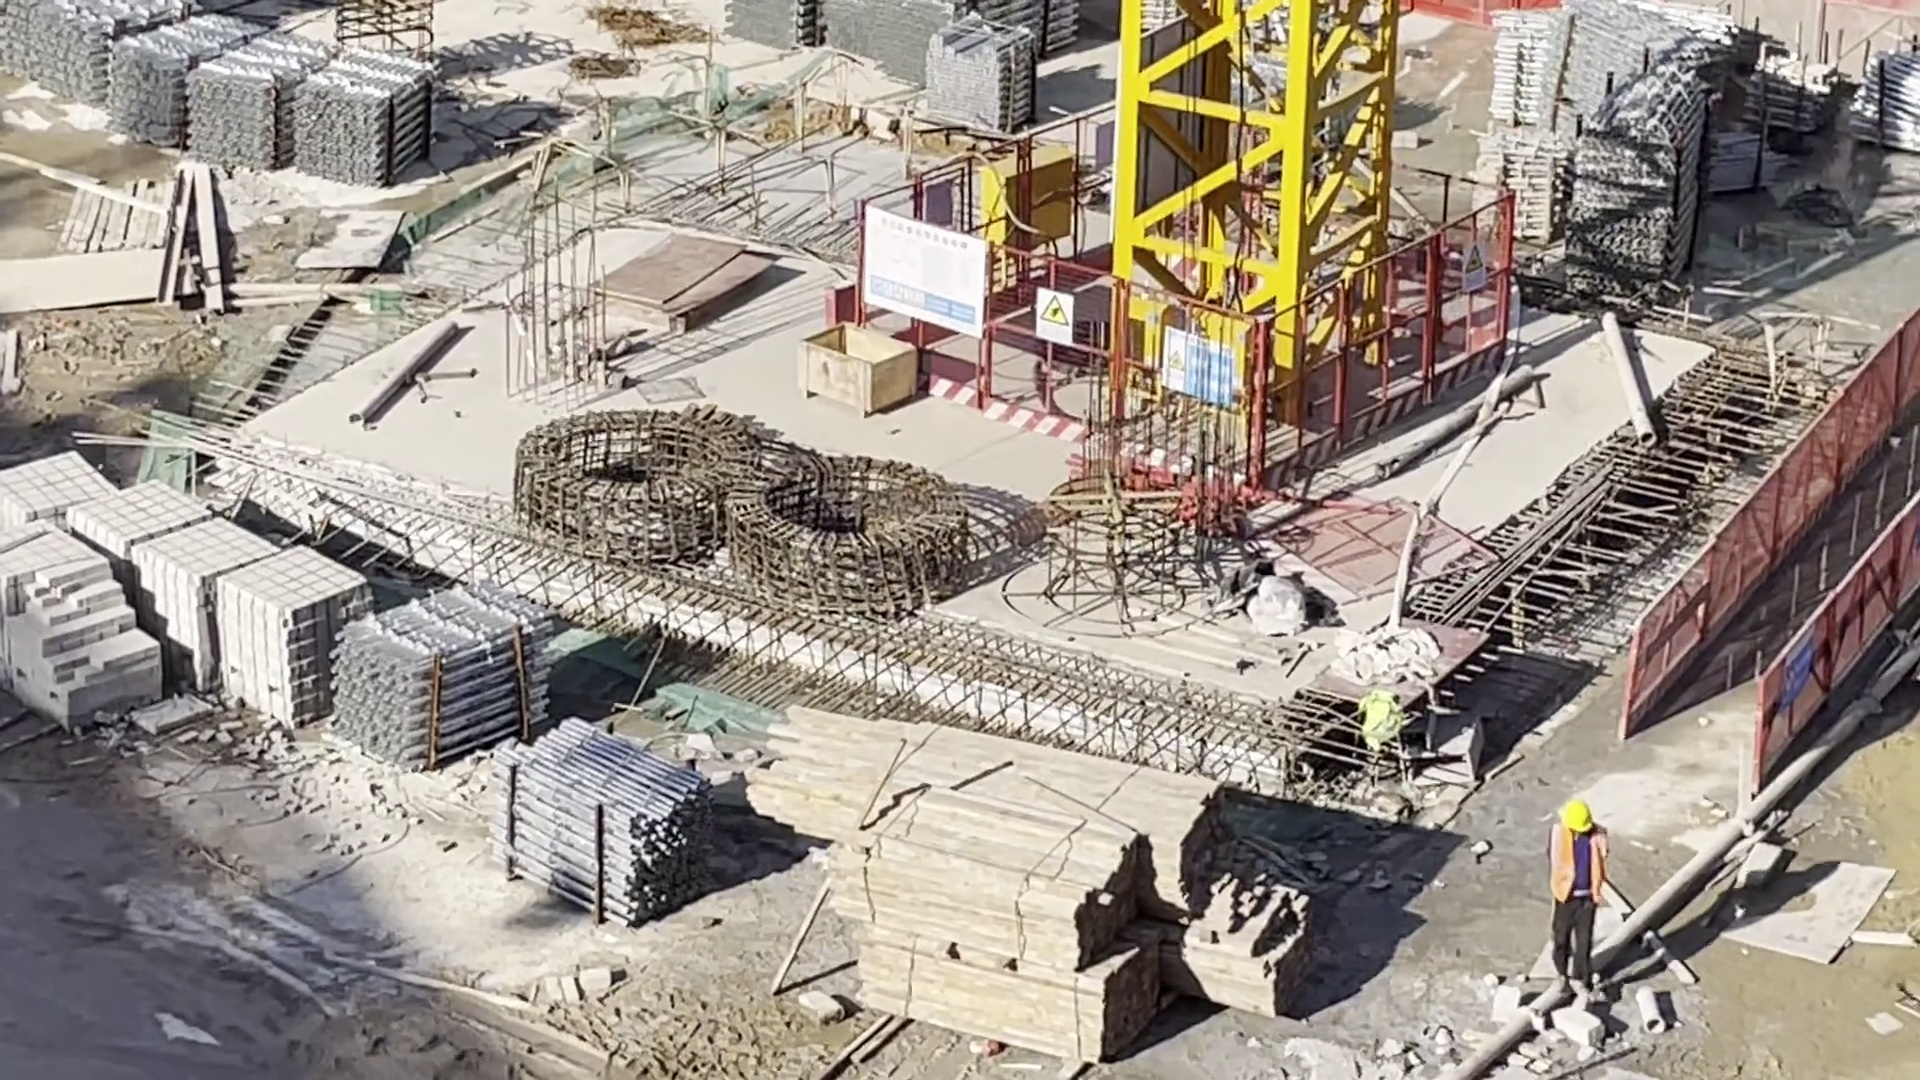board: (606, 237, 767, 326)
brick: (8, 465, 344, 724)
ebox: (981, 158, 1069, 262)
fence: (1639, 320, 1920, 757)
helmet: (1556, 796, 1594, 834)
person: (1547, 801, 1605, 993)
scaffold: (1496, 5, 1699, 278), (339, 584, 544, 770), (504, 726, 696, 923), (109, 12, 331, 164), (729, 1, 1078, 80), (2, 1, 194, 101), (297, 53, 438, 185), (925, 18, 1035, 130), (1748, 46, 1831, 135), (1863, 51, 1920, 148)
slogan: (1158, 330, 1229, 415), (1781, 629, 1815, 712), (1035, 292, 1073, 341), (1463, 241, 1486, 291)
vest: (1550, 839, 1602, 903)
wood: (766, 714, 1223, 926), (848, 812, 1158, 1056)
